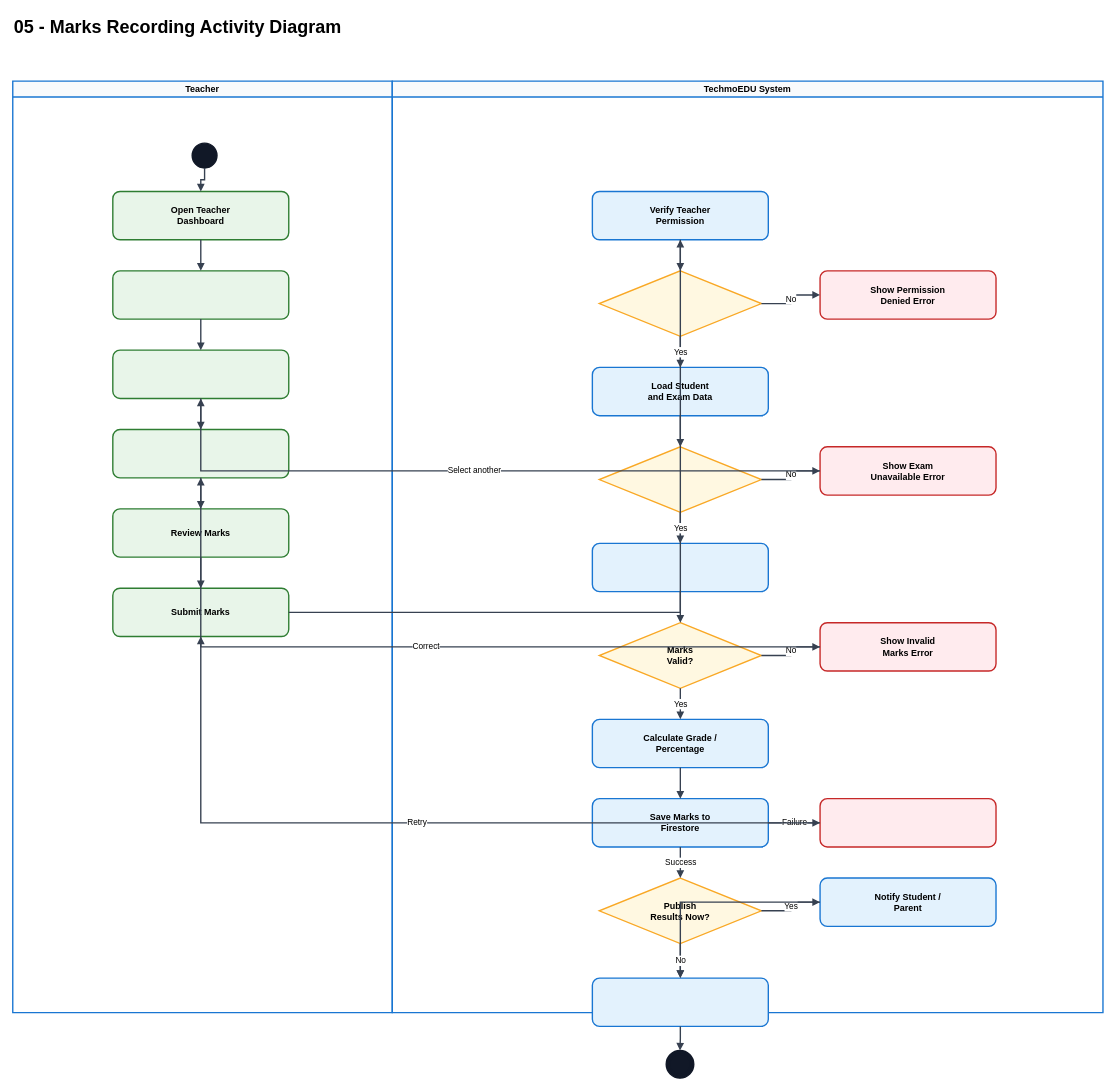
This 1115x1090 diagram has some shape labels left out. Each missing label, with the box of its shape:
Display Success Message: (591, 977, 769, 1027)
Enter Student Marks: (112, 428, 289, 478)
Exam Active?: (598, 446, 762, 513)
Select Assigned Class: (112, 270, 289, 319)
Select Examination: (112, 349, 289, 399)
Show Save Failure Error: (819, 798, 996, 847)
Teacher Assigned?: (598, 270, 762, 337)
Validate Marks Range: (591, 542, 769, 592)
